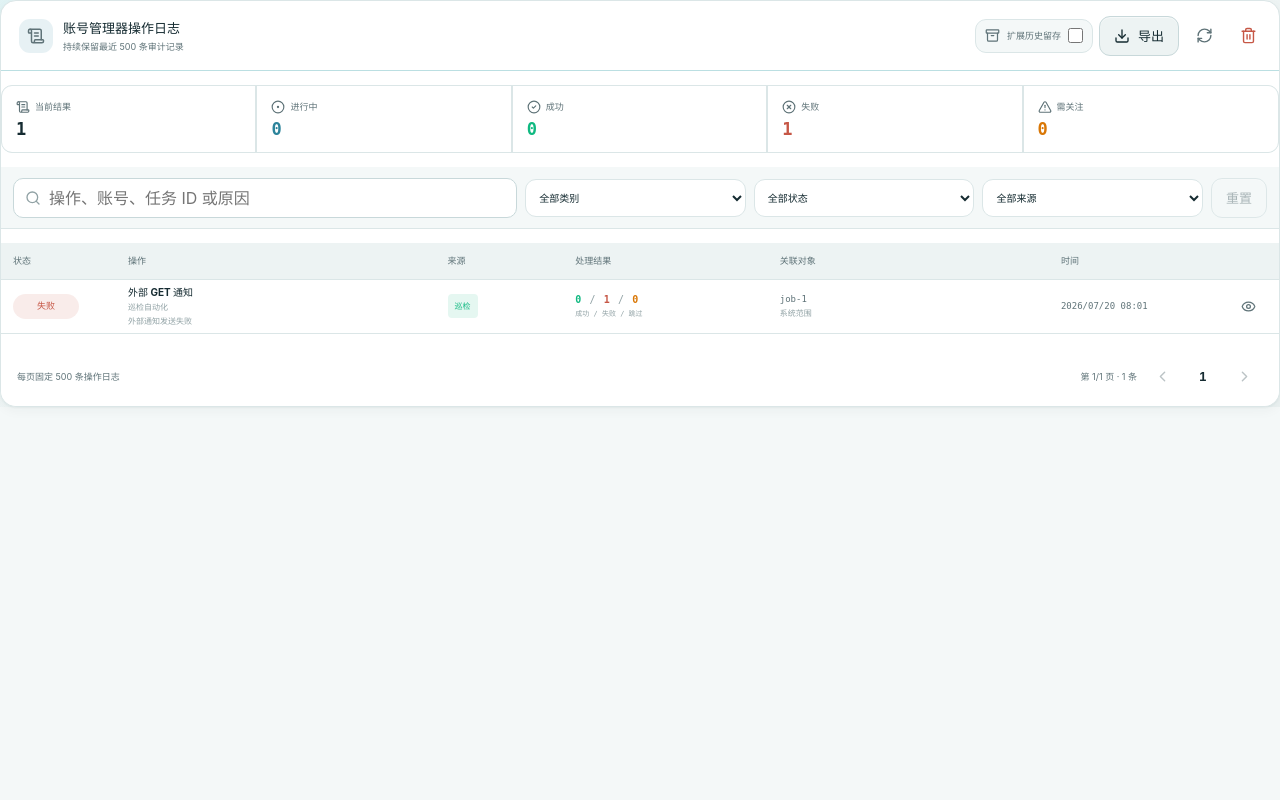
Test: OperationLogWorkspace › shows external notification failures with HTTP status and attempt count
Expected: the text "外部 GET 通知" is shown, [128,286,193,298]
Step 1. Click the button named "查看操作详情" → (1248, 306), box [1229,287,1267,325]
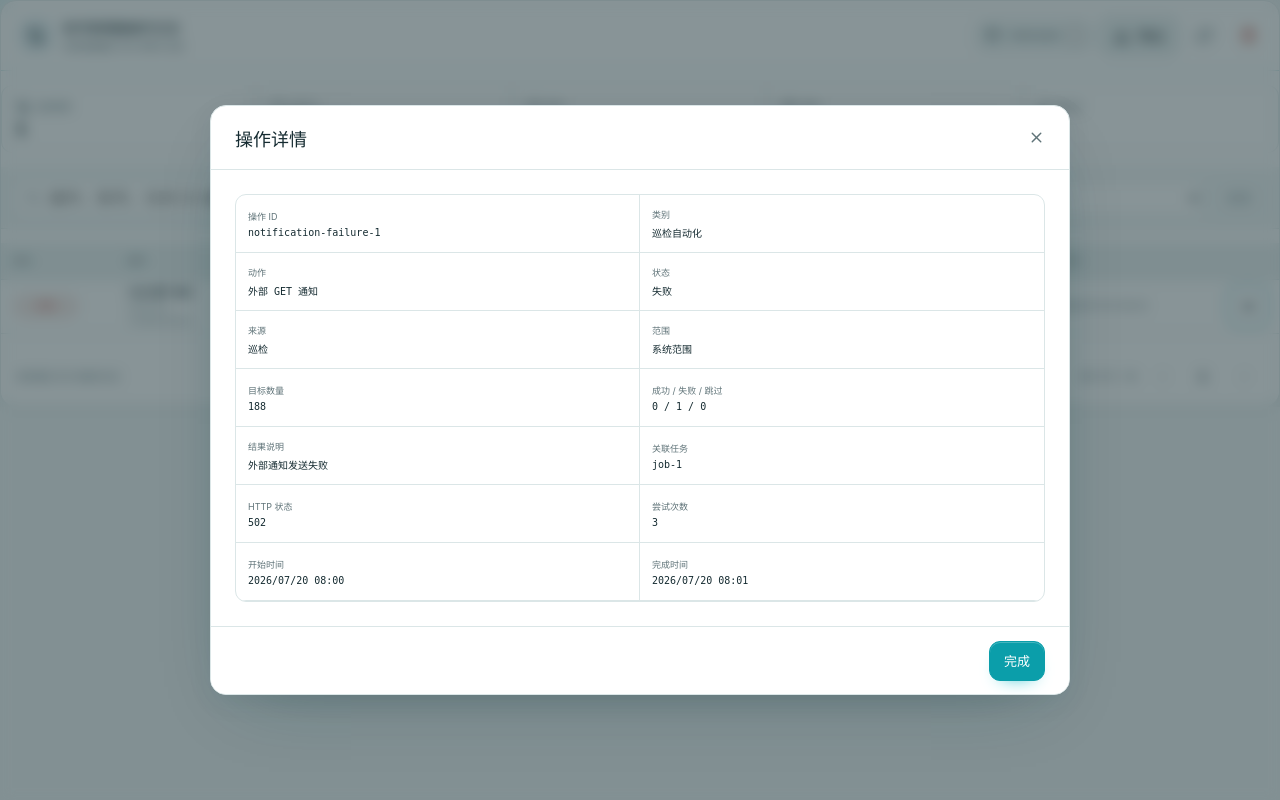
Expected: the text "外部通知发送失败" is shown, [248,460,328,470]
Expected: the text "502" is shown, [248,516,266,528]
Expected: the text "3" is shown, [652,516,658,528]
